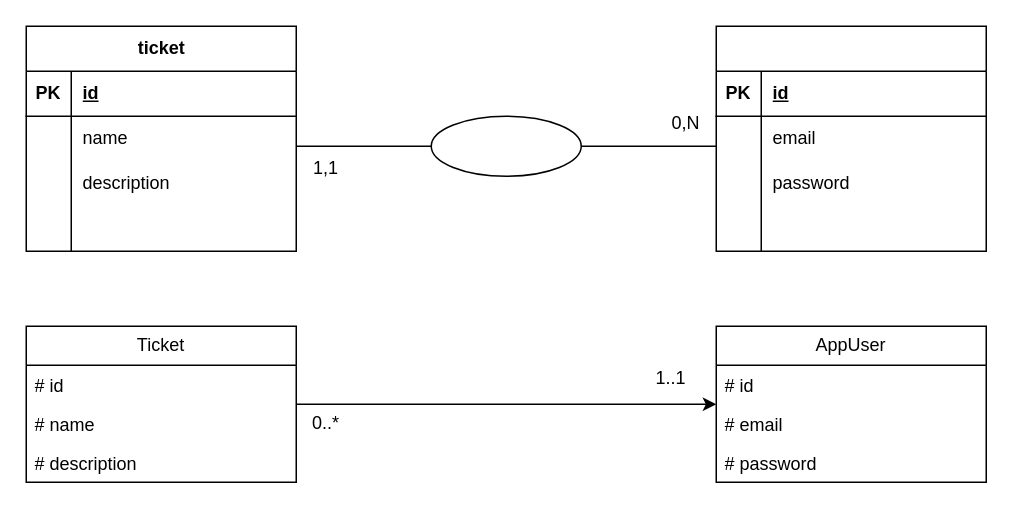
Image size: 1013x513. Some labels were removed from this diagram. The box of each missing label's shape, as (x1, y1, x2, y2) in pixels:
app_user: (715, 25, 986, 251)
créer: (430, 115, 581, 176)
